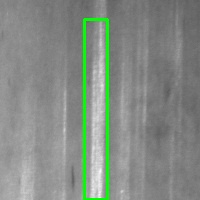scratches: (84, 19, 107, 199)
